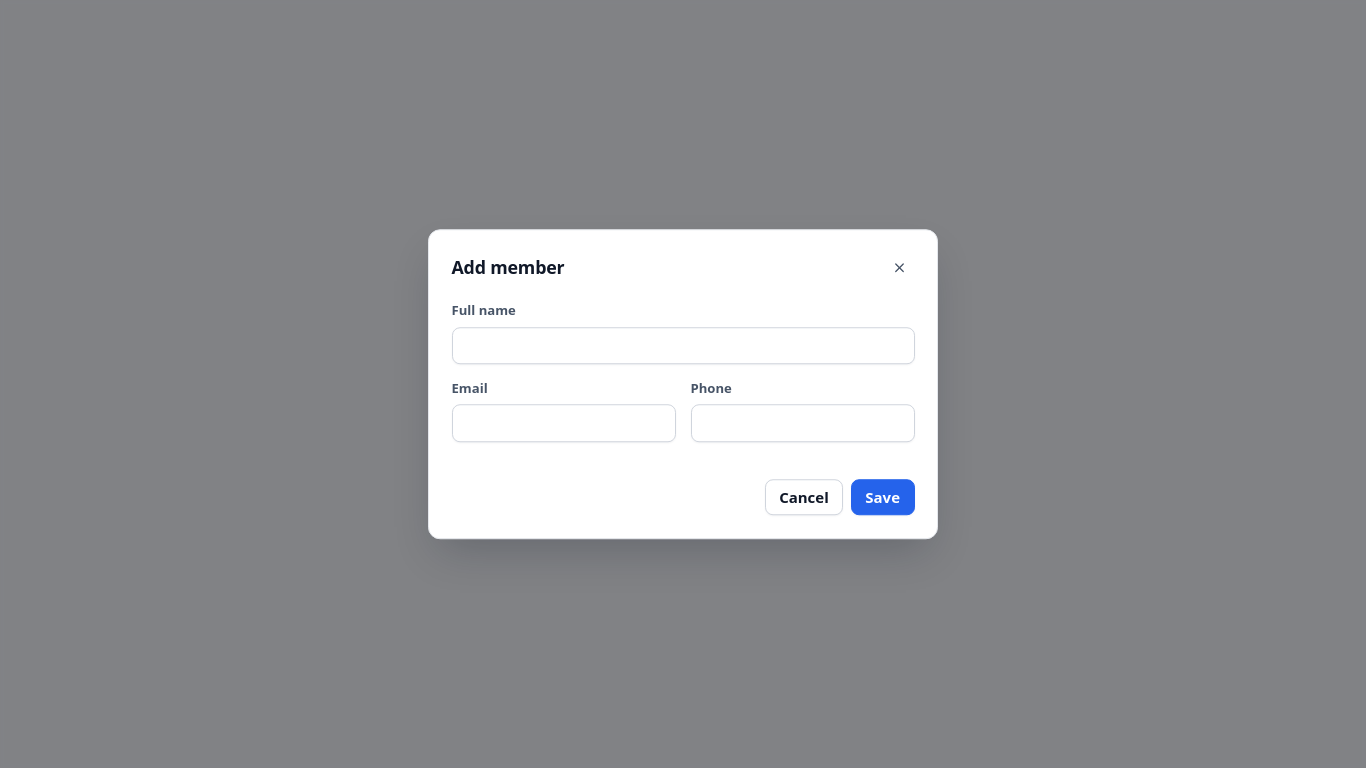
Test: MemberFormDialog › adds a member with a trimmed email and no phone
The width and height of the screenshot is (1366, 768).
Expected: the dialog "Add member" is shown, x1=428 y1=229 x2=938 y2=539
In the field labelled "Full name": (683, 346) x1=452 y1=327 x2=914 y2=364, type "Ada Lovelace"
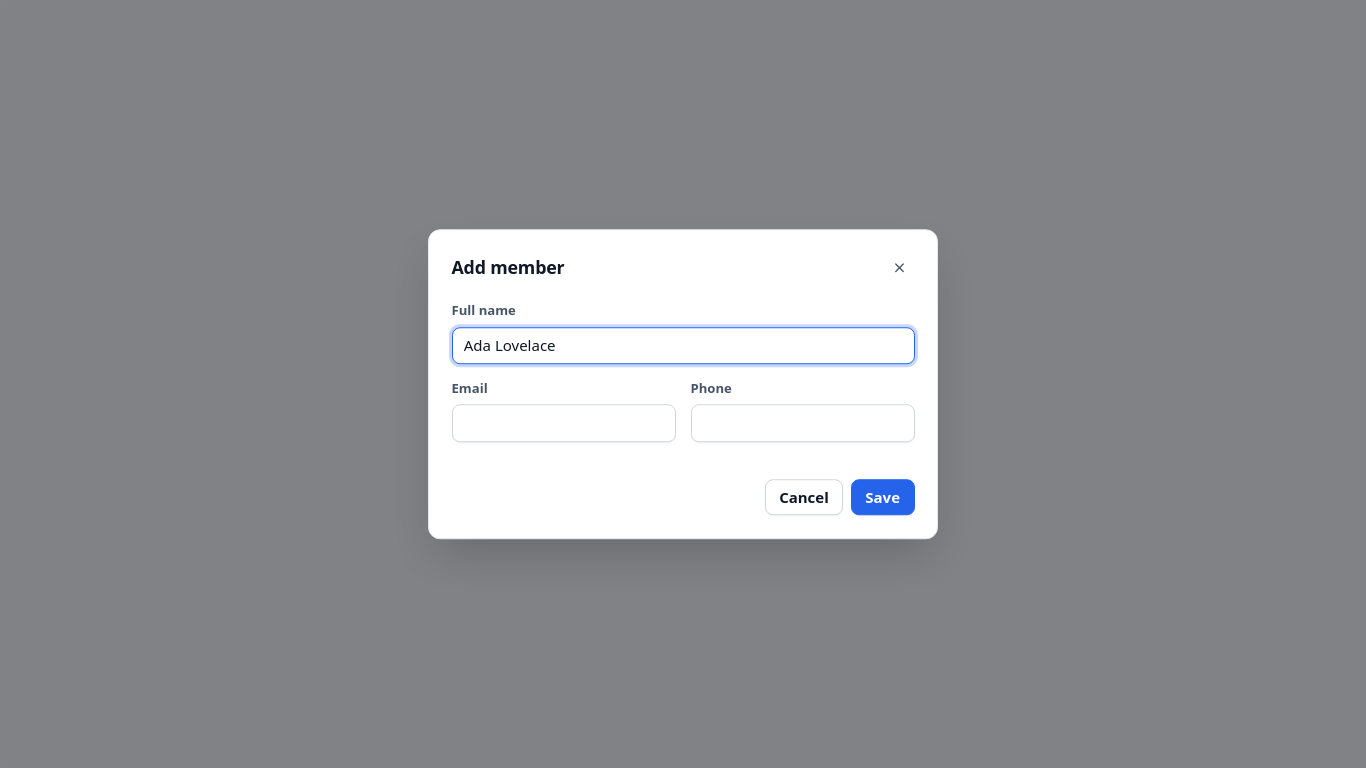
In the field labelled "Email": (564, 423) x1=452 y1=405 x2=676 y2=442, type "  Ada@Example.com "
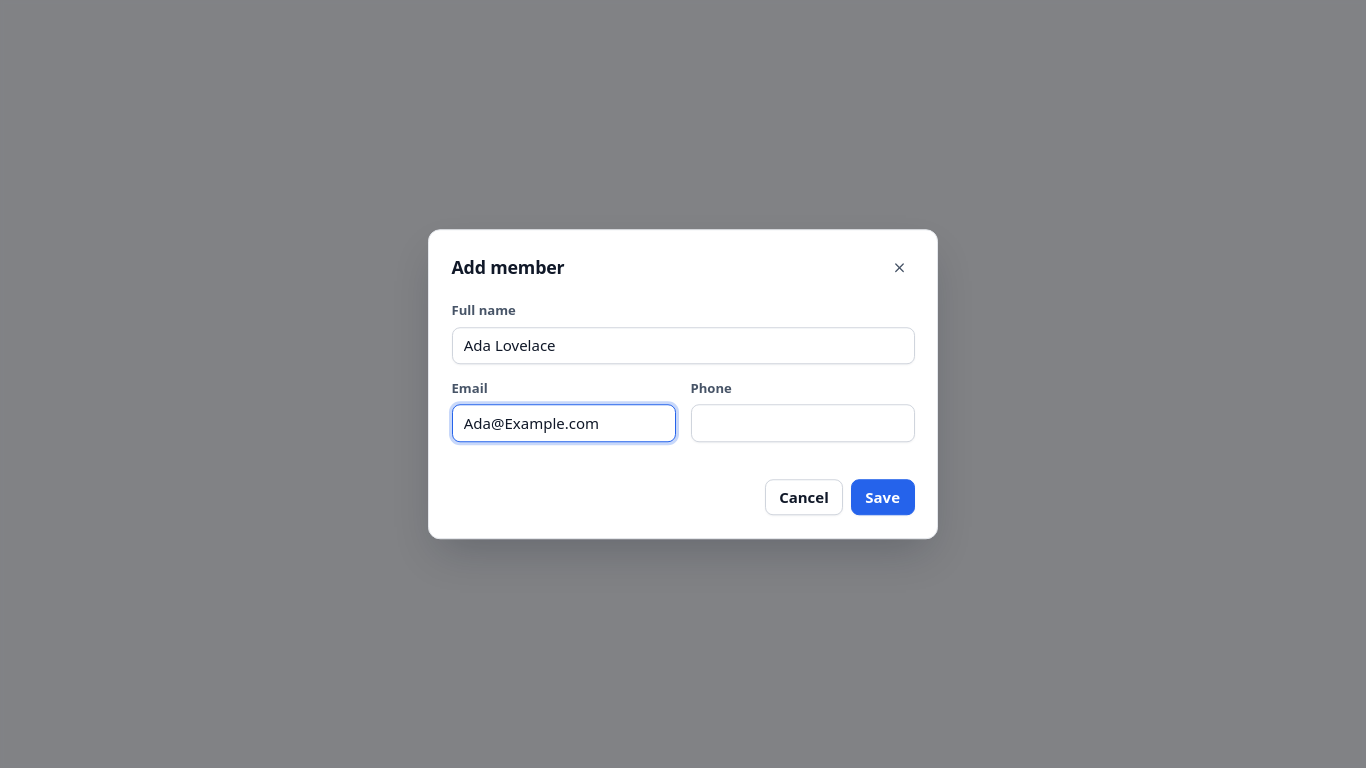
Click the button "Save": (883, 497) x1=851 y1=480 x2=914 y2=515
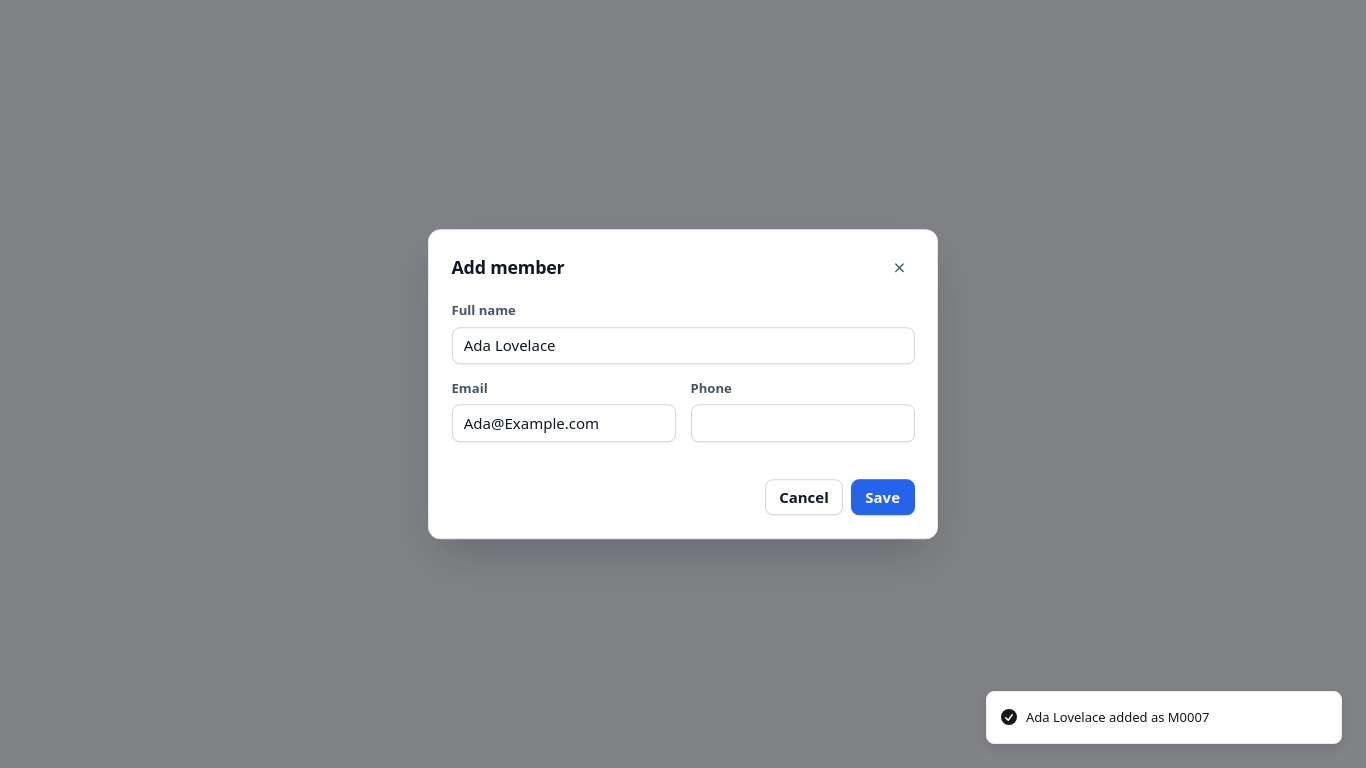
Expected: the text "Ada Lovelace added as M0007" is shown, x1=1026 y1=708 x2=1209 y2=727
